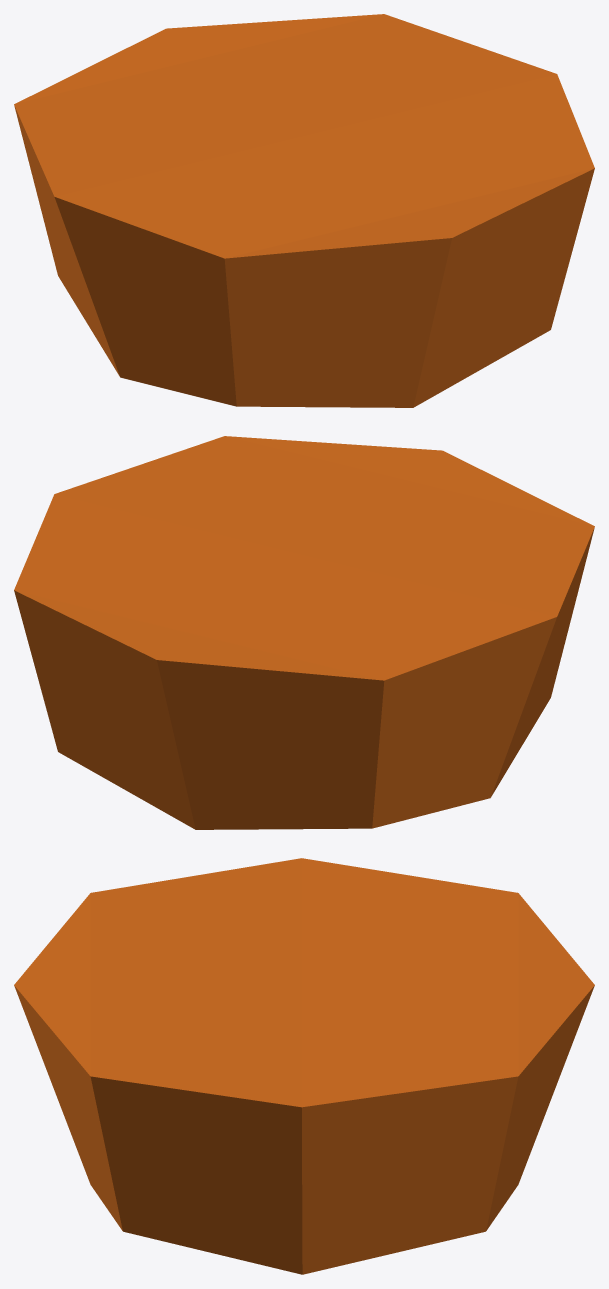
File: eggYolkHalf.fbx
3 views of the same model, one above another, from view 1: azimuth 30°, elevation 25°; view 2: azimuth 150°, elevation 25°; view 3: azimuth 270°, elevation 25° (orthographic).
Parts seen in each view (by area): view 1: eggYolkHalf; view 2: eggYolkHalf; view 3: eggYolkHalf.
Part boxes in pixels (x1,y1,x2,y2): eggYolkHalf: [14, 14, 594, 407]; eggYolkHalf: [14, 436, 594, 829]; eggYolkHalf: [14, 858, 594, 1274].
Size of the model in its own units: 2.92 by 1.47 by 2.88.
1 material, 1 textured.
